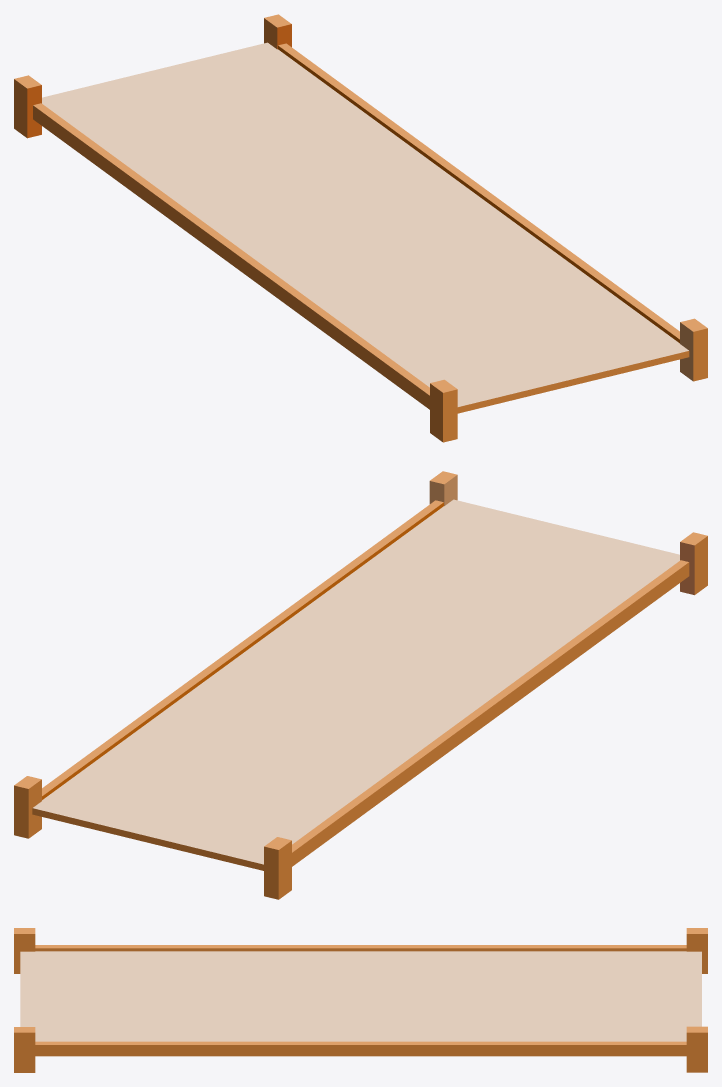
The model's file is rorange.fbx.
3 renders of one model, top to bottom at view 1: azimuth 30°, elevation 25°; view 2: azimuth 150°, elevation 25°; view 3: azimuth 270°, elevation 25°, orthographic. The views are drawn at different scales.
Parts seen in each view (by area): view 1: SM_Rack_100.001; view 2: SM_Rack_100.001; view 3: SM_Rack_100.001.
Part boxes in pixels (x1,y1,x2,y2): SM_Rack_100.001: (14, 14, 707, 442); SM_Rack_100.001: (14, 471, 707, 899); SM_Rack_100.001: (14, 928, 707, 1072).
Bounding box in the file's own units: 112 × 20 × 313.
